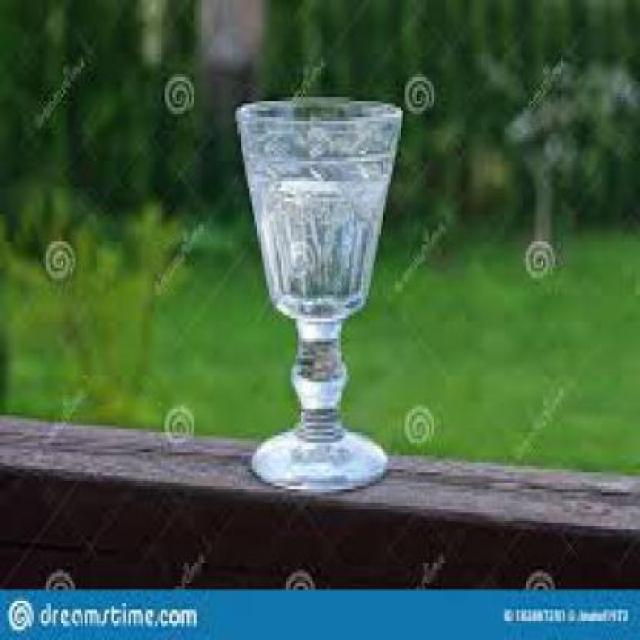kaca: (234, 88, 398, 486)
